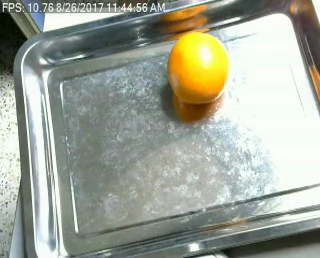Orange: (168, 29, 229, 105)
